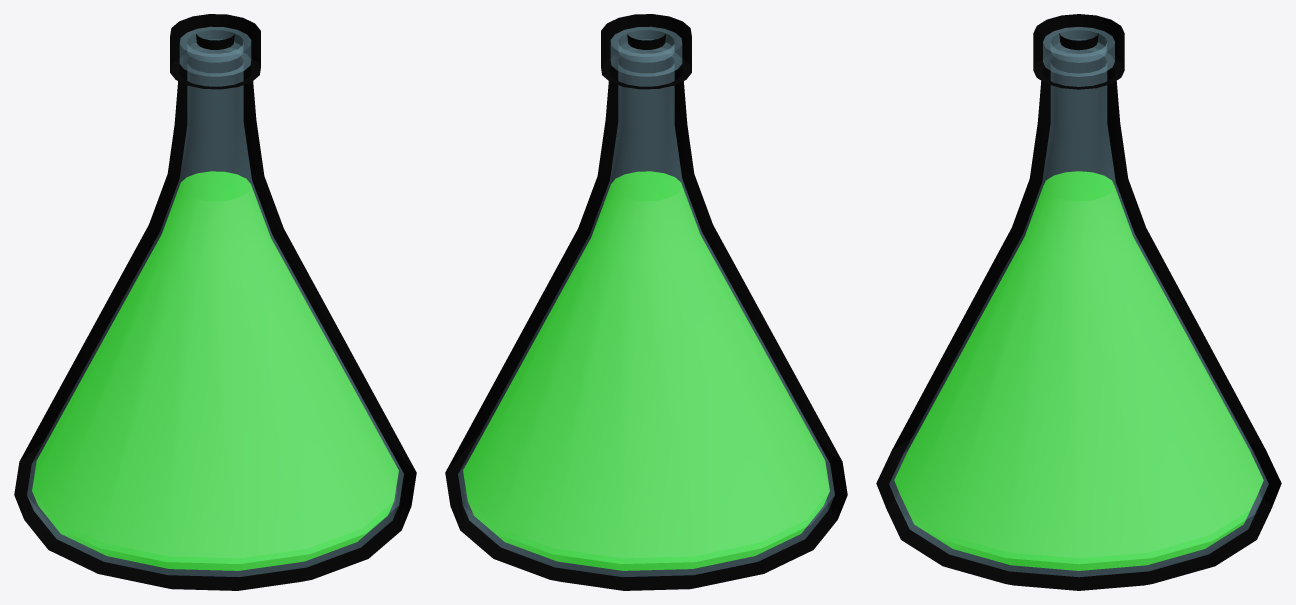
File: Quimico verde 1.fbx
The picture shows the model from 3 angles, left to right: view 1: azimuth 30°, elevation 25°; view 2: azimuth 150°, elevation 25°; view 3: azimuth 270°, elevation 25°; orthographic projection.
Visible parts, largest first — view 1: Cylinder.003; view 2: Cylinder.003; view 3: Cylinder.003.
Part boxes in pixels (left/top/right/bottom): Cylinder.003: left=14, top=14, right=416, bottom=590; Cylinder.003: left=445, top=14, right=847, bottom=590; Cylinder.003: left=876, top=14, right=1281, bottom=590.
Bounding box in the file's own units: 22.13 × 29.31 × 22.13.
